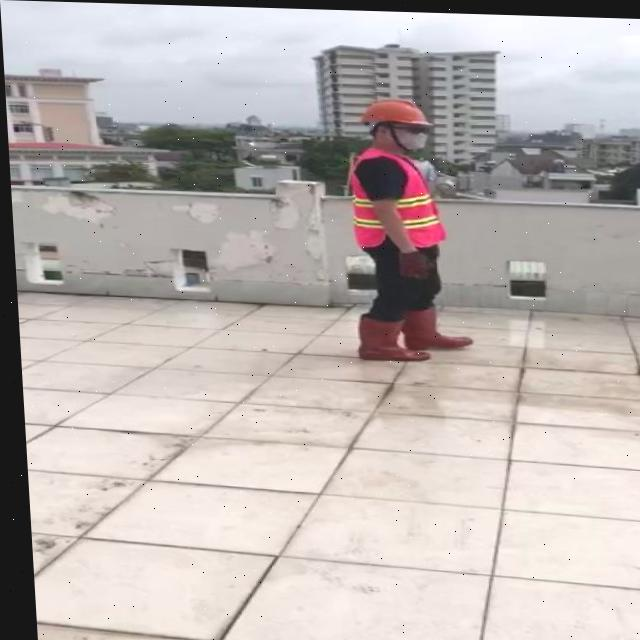Gloves: (396, 247, 427, 278)
Helmet: (359, 96, 435, 129)
Safety-Boot: (353, 309, 427, 359), (398, 301, 470, 347)
Safety-Vest: (346, 144, 444, 249)
